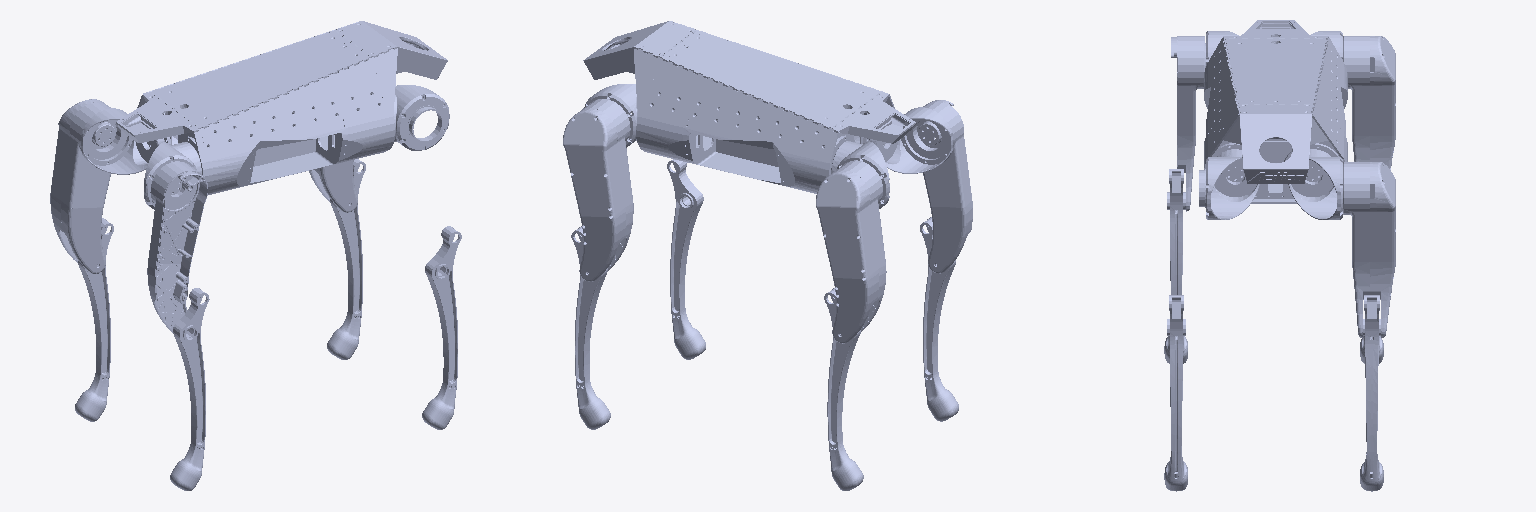
The robot description file, URDF, robot "dog2":
<?xml version="1.0" encoding="utf-8"?>
<!-- This URDF was automatically created by SolidWorks to URDF Exporter! Originally created by [author] ([email redacted]) 
     Commit Version: 1.6.0-4-g7f85cfe  Build Version: 1.6.7995.38578
     For more information, please see http://wiki.ros.org/sw_urdf_exporter -->
<robot
  name="dog2">
  <link
    name="base">
    <inertial>
      <origin
        xyz="0.019195 0.0 0.012831"
        rpy="0 0 0" />
      <mass
        value="9.830" />
      <inertia
        ixx="0.05840165"
        ixy="0.000016493"
        ixz="-0.014189081"
        iyy="0.204936102"
        iyz="0.000067903"
        izz="0.226098013" />
    </inertial>
    <visual>
      <origin
        xyz="0 0 0"
        rpy="0 0 0" />
      <geometry>
        <mesh
          filename="package://dog2/meshes/base.STL" />
      </geometry>
      <material
        name="">
        <color
          rgba="0.79216 0.81961 0.93333 1" />
      </material>
    </visual>
    <collision>
      <origin
        xyz="0 0 0.033"
        rpy="0 0 0" />
      <geometry>
        <box size="0.36 0.2 0.16"/>
      </geometry>
    </collision>
  </link>
  <link
    name="fr_hip">
    <inertial>
      <origin
        xyz="-0.003719 -0.024390 0.002636"
        rpy="0 0 0" />
      <mass
        value="1.25" />
      <inertia
        ixx="0.001250756"
        ixy="0.000112145"
        ixz="-0.000013266"
        iyy="0.001692423"
        iyz="-0.000035135"
        izz="0.001362387" />
    </inertial>
    <visual>
      <origin
        xyz="0 0 0"
        rpy="0 0 0" />
      <geometry>
        <mesh
          filename="package://dog2/meshes/fr_hip.STL" />
      </geometry>
      <material
        name="">
        <color
          rgba="0.79216 0.81961 0.93333 1" />
      </material>
    </visual>
  </link>
  <joint
    name="fr_hip"
    type="revolute">
    <origin
      xyz="0.23995 -0.064815 0"
      rpy="0 0 0" />
    <parent
      link="base" />
    <child
      link="fr_hip" />
    <axis
      xyz="1 0 0" />
    <limit
      lower="0"
      upper="0"
      effort="0"
      velocity="0" />
  </joint>
  <link
    name="fr_thigh">
    <inertial>
      <origin
        xyz="-0.007382 0.005662 -0.061236"
        rpy="0 0 0" />
      <mass
        value="1.313" />
      <inertia
        ixx="0.00536137434"
        ixy="-0.0000165394872"
        ixz="-0.000491773608"
        iyy="0.00542875304"
        iyz="-0.000156036153"
        izz="0.00102632993" />
    </inertial>
    <visual>
      <origin
        xyz="0 0 0"
        rpy="0 0 0" />
      <geometry>
        <mesh
          filename="package://dog2/meshes/fr_thigh.STL" />
      </geometry>
      <material
        name="">
        <color
          rgba="0.79216 0.81961 0.93333 1" />
      </material>
    </visual>
    <collision>
      <origin
        xyz="-0.014352 0 -0.086111"
        rpy="0 0.1745329252 0" />
      <geometry>
        <box size="0.06 0.08 0.26"/>
      </geometry>
    </collision>
  </link>
  <joint
    name="fr_thigh"
    type="revolute">
    <origin
      xyz="0 -0.095 0"
      rpy="0 0 0" />
    <parent
      link="fr_hip" />
    <child
      link="fr_thigh" />
    <axis
      xyz="0 1 0" />
    <limit
      lower="0"
      upper="0"
      effort="0"
      velocity="0" />
  </joint>
  <link
    name="fr_calf">
    <inertial>
      <origin
        xyz="0.009849 0 -0.095828"
        rpy="0 0 0" />
      <mass
        value="0.227" />
      <inertia
        ixx="0.00312685"
        ixy="0"
        ixz="-0.000018757"
        iyy="0.00315494"
        iyz="-1.2E-8"
        izz="0.000053184" />
    </inertial>
    <visual>
      <origin
        xyz="0 0 0"
        rpy="0 0 0" />
      <geometry>
        <mesh
          filename="package://dog2/meshes/fr_calf.STL" />
      </geometry>
      <material
        name="">
        <color
          rgba="0.79216 0.81961 0.93333 1" />
      </material>
    </visual>
    <collision>
      <origin
        xyz="0.011876 0 -0.056649"
        rpy="0 -0.1745329252 0" />
      <geometry>
        <box size="0.02 0.02 0.1"/>
      </geometry>
    </collision>
    <collision>
      <origin
        xyz="0.021144 0 -0.171595"
        rpy="0 0 0" />
      <geometry>
        <box size="0.02 0.02 0.12"/>
      </geometry>
    </collision>
  </link>
  <joint
    name="fr_calf"
    type="revolute">
    <origin
      xyz="0 0.001 -0.246"
      rpy="0 0 0" />
    <parent
      link="fr_thigh" />
    <child
      link="fr_calf" />
    <axis
      xyz="0 1 0" />
    <limit
      lower="0"
      upper="0"
      effort="0"
      velocity="0" />
  </joint>
  <link
    name="fl_hip">
    <inertial>
      <origin
        xyz="-0.003719 0.024390 0.002636"
        rpy="0 0 0" />
      <mass
        value="1.25" />
      <inertia
        ixx="0.001250756"
        ixy="-0.000112145"
        ixz="-0.000013266"
        iyy="0.001692423"
        iyz="0.000035135"
        izz="0.001362387" />
    </inertial>
    <visual>
      <origin
        xyz="0 0 0"
        rpy="0 0 0" />
      <geometry>
        <mesh
          filename="package://dog2/meshes/fl_hip.STL" />
      </geometry>
      <material
        name="">
        <color
          rgba="0.79216 0.81961 0.93333 1" />
      </material>
    </visual>
  </link>
  <joint
    name="fl_hip"
    type="revolute">
    <origin
      xyz="0.23995 0.059185 0"
      rpy="0 0 0" />
    <parent
      link="base" />
    <child
      link="fl_hip" />
    <axis
      xyz="1 0 0" />
    <limit
      lower="0"
      upper="0"
      effort="0"
      velocity="0" />
  </joint>
  <link
    name="fl_thigh">
    <inertial>
      <origin
        xyz="-0.007382 -0.005662 -0.061236"
        rpy="0 0 0" />
      <mass
        value="1.313" />
      <inertia
        ixx="0.00536137434"
        ixy="0.0000165394872"
        ixz="-0.000491773608"
        iyy="0.00542875304"
        iyz="0.000156036153"
        izz="0.00102632993" />
    </inertial>
    <visual>
      <origin
        xyz="0 0 0"
        rpy="0 0 0" />
      <geometry>
        <mesh
          filename="package://dog2/meshes/fl_thigh.STL" />
      </geometry>
      <material
        name="">
        <color
          rgba="0.79216 0.81961 0.93333 1" />
      </material>
    </visual>
    <collision>
      <origin
        xyz="-0.014352 0 -0.086111"
        rpy="0 0.1745329252 0" />
      <geometry>
        <box size="0.06 0.08 0.26"/>
      </geometry>
    </collision>
  </link>
  <joint
    name="fl_thigh"
    type="revolute">
    <origin
      xyz="0 0.095 0"
      rpy="0 0 0" />
    <parent
      link="fl_hip" />
    <child
      link="fl_thigh" />
    <axis
      xyz="0 1 0" />
    <limit
      lower="0"
      upper="0"
      effort="0"
      velocity="0" />
  </joint>
  <link
    name="fl_calf">
    <inertial>
      <origin
        xyz="0.009849 0 -0.095828"
        rpy="0 0 0" />
      <mass
        value="0.227" />
      <inertia
        ixx="0.00312685"
        ixy="0"
        ixz="-0.000018757"
        iyy="0.00315494"
        iyz="-1.2E-8"
        izz="0.000053184" />
    </inertial>
    <visual>
      <origin
        xyz="0 0 0"
        rpy="0 0 0" />
      <geometry>
        <mesh
          filename="package://dog2/meshes/fl_calf.STL" />
      </geometry>
      <material
        name="">
        <color
          rgba="0.79216 0.81961 0.93333 1" />
      </material>
    </visual>
    <collision>
      <origin
        xyz="0.011876 0 -0.056649"
        rpy="0 -0.1745329252 0" />
      <geometry>
        <box size="0.02 0.02 0.1"/>
      </geometry>
    </collision>
    <collision>
      <origin
        xyz="0.021144 0 -0.171595"
        rpy="0 0 0" />
      <geometry>
        <box size="0.02 0.02 0.12"/>
      </geometry>
    </collision>
  </link>
  <joint
    name="fl_calf"
    type="revolute">
    <origin
      xyz="0 0 -0.246"
      rpy="0 0 0" />
    <parent
      link="fl_thigh" />
    <child
      link="fl_calf" />
    <axis
      xyz="0 1 0" />
    <limit
      lower="0"
      upper="0"
      effort="0"
      velocity="0" />
  </joint>
  <link
    name="rr_hip">
    <inertial>
      <origin
        xyz="0.003719 -0.024390 0.002636"
        rpy="0 0 0" />
      <mass
        value="1.25" />
      <inertia
        ixx="0.001250756"
        ixy="-0.000112145"
        ixz="0.000013266"
        iyy="0.001692423"
        iyz="-0.000035135"
        izz="0.001362387" />
    </inertial>
    <visual>
      <origin
        xyz="0 0 0"
        rpy="0 0 0" />
      <geometry>
        <mesh
          filename="package://dog2/meshes/rr_hip.STL" />
      </geometry>
      <material
        name="">
        <color
          rgba="0.79216 0.81961 0.93333 1" />
      </material>
    </visual>
  </link>
  <joint
    name="rr_hip"
    type="revolute">
    <origin
      xyz="-0.24005 -0.064815 0"
      rpy="0 0 0" />
    <parent
      link="base" />
    <child
      link="rr_hip" />
    <axis
      xyz="1 0 0" />
    <limit
      lower="0"
      upper="0"
      effort="0"
      velocity="0" />
  </joint>
  <link
    name="rr_thigh">
    <inertial>
      <origin
        xyz="-0.007382 0.005662 -0.061236"
        rpy="0 0 0" />
      <mass
        value="1.313" />
      <inertia
        ixx="0.00536137434"
        ixy="-0.0000165394872"
        ixz="-0.000491773608"
        iyy="0.00542875304"
        iyz="-0.000156036153"
        izz="0.00102632993" />
    </inertial>
    <visual>
      <origin
        xyz="0 0 0"
        rpy="0 0 0" />
      <geometry>
        <mesh
          filename="package://dog2/meshes/rr_thigh.STL" />
      </geometry>
      <material
        name="">
        <color
          rgba="0.792156862745098 0.819607843137255 0.933333333333333 1" />
      </material>
    </visual>
    <collision>
      <origin
        xyz="-0.014352 0 -0.086111"
        rpy="0 0.1745329252 0" />
      <geometry>
        <box size="0.06 0.08 0.26"/>
      </geometry>
    </collision>
  </link>
  <joint
    name="rr_thigh"
    type="revolute">
    <origin
      xyz="0 -0.095 0"
      rpy="0 0 0" />
    <parent
      link="rr_hip" />
    <child
      link="rr_thigh" />
    <axis
      xyz="0 1 0" />
    <limit
      lower="0"
      upper="0"
      effort="0"
      velocity="0" />
  </joint>
  <link
    name="rr_calf">
    <inertial>
      <origin
        xyz="0.009849 0 -0.095828"
        rpy="0 0 0" />
      <mass
        value="0.227" />
      <inertia
        ixx="0.00312685"
        ixy="0"
        ixz="-0.000018757"
        iyy="0.00315494"
        iyz="-1.2E-8"
        izz="0.000053184" />
    </inertial>
    <visual>
      <origin
        xyz="0 0 0"
        rpy="0 0 0" />
      <geometry>
        <mesh
          filename="package://dog2/meshes/rr_calf.STL" />
      </geometry>
      <material
        name="">
        <color
          rgba="0.79216 0.81961 0.93333 1" />
      </material>
    </visual>
    <collision>
      <origin
        xyz="0.011876 0 -0.056649"
        rpy="0 -0.1745329252 0" />
      <geometry>
        <box size="0.02 0.02 0.1"/>
      </geometry>
    </collision>
    <collision>
      <origin
        xyz="0.021144 0 -0.171595"
        rpy="0 0 0" />
      <geometry>
        <box size="0.02 0.02 0.12"/>
      </geometry>
    </collision>
  </link>
  <joint
    name="rr_calf"
    type="revolute">
    <origin
      xyz="0 0.001 -0.246"
      rpy="0 0 0" />
    <parent
      link="rr_thigh" />
    <child
      link="rr_calf" />
    <axis
      xyz="0 1 0" />
    <limit
      lower="0"
      upper="0"
      effort="0"
      velocity="0" />
  </joint>
  <link
    name="rl_hip">
    <inertial>
      <origin
        xyz="0.003719 0.024390 0.002636"
        rpy="0 0 0" />
      <mass
        value="1.25" />
      <inertia
        ixx="0.001250756"
        ixy="0.000112145"
        ixz="0.000013266"
        iyy="0.001692423"
        iyz="0.000035135"
        izz="0.001362387" />
    </inertial>
    <visual>
      <origin
        xyz="0 0 0"
        rpy="0 0 0" />
      <geometry>
        <mesh
          filename="package://dog2/meshes/rl_hip.STL" />
      </geometry>
      <material
        name="">
        <color
          rgba="0.79216 0.81961 0.93333 1" />
      </material>
    </visual>
  </link>
  <joint
    name="rl_hip"
    type="revolute">
    <origin
      xyz="-0.24005 0.059185 0"
      rpy="0 0 0" />
    <parent
      link="base" />
    <child
      link="rl_hip" />
    <axis
      xyz="1 0 0" />
    <limit
      lower="0"
      upper="0"
      effort="0"
      velocity="0" />
  </joint>
  <link
    name="rl_thigh">
    <inertial>
      <origin
        xyz="-0.007382 -0.005662 -0.061236"
        rpy="0 0 0" />
      <mass
        value="1.313" />
      <inertia
        ixx="0.00536137434"
        ixy="0.0000165394872"
        ixz="-0.000491773608"
        iyy="0.00542875304"
        iyz="0.000156036153"
        izz="0.00102632993" />
    </inertial>
    <visual>
      <origin
        xyz="0 0 0"
        rpy="0 0 0" />
      <geometry>
        <mesh
          filename="package://dog2/meshes/rl_thigh.STL" />
      </geometry>
      <material
        name="">
        <color
          rgba="0.79216 0.81961 0.93333 1" />
      </material>
    </visual>
    <collision>
      <origin
        xyz="-0.014352 0 -0.086111"
        rpy="0 0.1745329252 0" />
      <geometry>
        <box size="0.06 0.08 0.26"/>
      </geometry>
    </collision>
  </link>
  <joint
    name="rl_thigh"
    type="revolute">
    <origin
      xyz="0 0.095 0"
      rpy="0 0 0" />
    <parent
      link="rl_hip" />
    <child
      link="rl_thigh" />
    <axis
      xyz="0 1 0" />
    <limit
      lower="0"
      upper="0"
      effort="0"
      velocity="0" />
  </joint>
  <link
    name="rl_calf">
    <inertial>
      <origin
        xyz="0.009849 0 -0.095828"
        rpy="0 0 0" />
      <mass
        value="0.227" />
      <inertia
        ixx="0.00312685"
        ixy="0"
        ixz="-0.000018757"
        iyy="0.00315494"
        iyz="-1.2E-8"
        izz="0.000053184" />
    </inertial>
    <visual>
      <origin
        xyz="0 0 0"
        rpy="0 0 0" />
      <geometry>
        <mesh
          filename="package://dog2/meshes/rl_calf.STL" />
      </geometry>
      <material
        name="">
        <color
          rgba="0.79216 0.81961 0.93333 1" />
      </material>
    </visual>
    <collision>
      <origin
        xyz="0.011876 0 -0.056649"
        rpy="0 -0.1745329252 0" />
      <geometry>
        <box size="0.02 0.02 0.1"/>
      </geometry>
    </collision>
    <collision>
      <origin
        xyz="0.021144 0 -0.171595"
        rpy="0 0 0" />
      <geometry>
        <box size="0.02 0.02 0.12"/>
      </geometry>
    </collision>
  </link>
  <joint
    name="rl_calf"
    type="revolute">
    <origin
      xyz="0 0 -0.246"
      rpy="0 0 0" />
    <parent
      link="rl_thigh" />
    <child
      link="rl_calf" />
    <axis
      xyz="0 1 0" />
    <limit
      lower="0"
      upper="0"
      effort="0"
      velocity="0" />
  </joint>

  <link
    name="fr_foot">
    <inertial>
      <origin
        xyz="0 0 0"
        rpy="0 0 0" />
      <mass
        value="1e-9" />
      <inertia
        ixx="1e-9"
        ixy="0"
        ixz="0"
        iyy="1e-9"
        iyz="0"
        izz="1e-9" />
    </inertial>
    <collision>
      <origin
        xyz="0 0 0"
        rpy="0 0 0" />
      <geometry>
        <sphere
          radius="0.026" />
      </geometry>
    </collision>
  </link>
  <joint
    name="fr_foot"
    type="fixed">
    <origin
      xyz="0 0 -0.26"
      rpy="0 0 0" />
    <parent
      link="fr_calf" />
    <child
      link="fr_foot" />
  </joint>


  <link
    name="fl_foot">
    <inertial>
      <origin
        xyz="0 0 0"
        rpy="0 0 0" />
      <mass
        value="1e-9" />
      <inertia
        ixx="1e-9"
        ixy="0"
        ixz="0"
        iyy="1e-9"
        iyz="0"
        izz="1e-9" />
    </inertial>
    <collision>
      <origin
        xyz="0 0 0"
        rpy="0 0 0" />
      <geometry>
        <sphere
          radius="0.026" />
      </geometry>
    </collision>
  </link>
  <joint
    name="fl_foot"
    type="fixed">
    <origin
      xyz="0 0 -0.26"
      rpy="0 0 0" />
    <parent
      link="fl_calf" />
    <child
      link="fl_foot" />
  </joint>


  <link
    name="rl_foot">
    <inertial>
      <origin
        xyz="0 0 0"
        rpy="0 0 0" />
      <mass
        value="1e-9" />
      <inertia
        ixx="1e-9"
        ixy="0"
        ixz="0"
        iyy="1e-9"
        iyz="0"
        izz="1e-9" />
    </inertial>
    <collision>
      <origin
        xyz="0 0 0"
        rpy="0 0 0" />
      <geometry>
        <sphere
          radius="0.026" />
      </geometry>
    </collision>
  </link>
  <joint
    name="rl_foot"
    type="fixed">
    <origin
      xyz="0 0 -0.26"
      rpy="0 0 0" />
    <parent
      link="rl_calf" />
    <child
      link="rl_foot" />
  </joint>


  <link
    name="rr_foot">
    <inertial>
      <origin
        xyz="0 0 0"
        rpy="0 0 0" />
      <mass
        value="1e-9" />
      <inertia
        ixx="1e-9"
        ixy="0"
        ixz="0"
        iyy="1e-9"
        iyz="0"
        izz="1e-9" />
    </inertial>
    <collision>
      <origin
        xyz="0 0 0"
        rpy="0 0 0" />
      <geometry>
        <sphere
          radius="0.026" />
      </geometry>
    </collision>
  </link>
  <joint
    name="rr_foot"
    type="fixed">
    <origin
      xyz="0 0 -0.26"
      rpy="0 0 0" />
    <parent
      link="rr_calf" />
    <child
      link="rr_foot" />
  </joint>
</robot>

--- Render facts (derived) ---
Views: 3 orthographic renders of the robot side by side, from view 1: azimuth 30°, elevation 25°; view 2: azimuth 150°, elevation 25°; view 3: azimuth 270°, elevation 25°.
Robot: dog2 — 17 links, 16 joints (12 revolute, 4 fixed); root link base; default pose: every joint at zero.
Visible links, largest first — view 1: base, rl_thigh, rr_thigh, rr_calf, fr_calf, rl_calf, fl_calf, rl_hip, fr_hip, fl_thigh, rr_hip; view 2: base, fl_thigh, rl_thigh, rr_thigh, fr_calf, rr_calf, rl_calf, fl_calf, rr_hip, rl_hip, fl_hip; view 3: base, fl_thigh, rl_thigh, rr_thigh, fr_hip, fl_hip, fl_calf, fr_calf, rr_calf.
Link boxes in pixels (left/top/right/bottom): base: left=116, top=21, right=447, bottom=194; rl_thigh: left=50, top=99, right=116, bottom=273; rr_thigh: left=147, top=161, right=207, bottom=332; rr_calf: left=170, top=288, right=209, bottom=490; fr_calf: left=422, top=226, right=461, bottom=429; rl_calf: left=75, top=218, right=113, bottom=421; fl_calf: left=327, top=159, right=365, bottom=359; rl_hip: left=81, top=108, right=170, bottom=174; fr_hip: left=394, top=85, right=449, bottom=150; fl_thigh: left=309, top=160, right=357, bottom=212; rr_hip: left=144, top=136, right=201, bottom=209; base: left=583, top=21, right=915, bottom=193; fl_thigh: left=563, top=99, right=633, bottom=281; rl_thigh: left=816, top=160, right=886, bottom=343; rr_thigh: left=917, top=100, right=972, bottom=273; fr_calf: left=667, top=159, right=705, bottom=359; rr_calf: left=920, top=217, right=958, bottom=421; rl_calf: left=824, top=288, right=863, bottom=490; fl_calf: left=571, top=226, right=610, bottom=429; rr_hip: left=863, top=107, right=952, bottom=173; rl_hip: left=830, top=135, right=889, bottom=208; fl_hip: left=584, top=84, right=637, bottom=147; base: left=1204, top=20, right=1347, bottom=203; fl_thigh: left=1343, top=162, right=1395, bottom=337; rl_thigh: left=1343, top=36, right=1395, bottom=169; rr_thigh: left=1171, top=36, right=1204, bottom=211; fr_hip: left=1199, top=143, right=1262, bottom=219; fl_hip: left=1284, top=143, right=1342, bottom=219; fl_calf: left=1360, top=295, right=1383, bottom=491; fr_calf: left=1164, top=295, right=1187, bottom=491; rr_calf: left=1164, top=169, right=1187, bottom=363.
Size in the robot's own frame: 0.6195 by 0.3713 by 0.6582 metres.
12 mesh visuals loaded from 13 distinct referenced files (12 binary STL); not drawn: 1 (reference not matched to a file when rendering).
